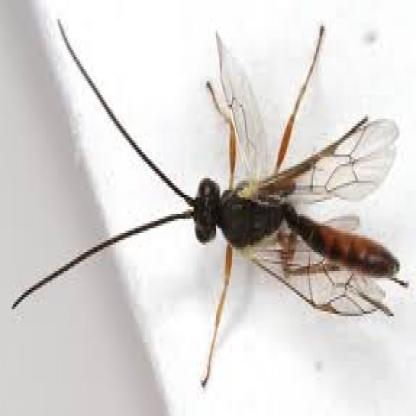sawfly: (5, 15, 408, 388)
